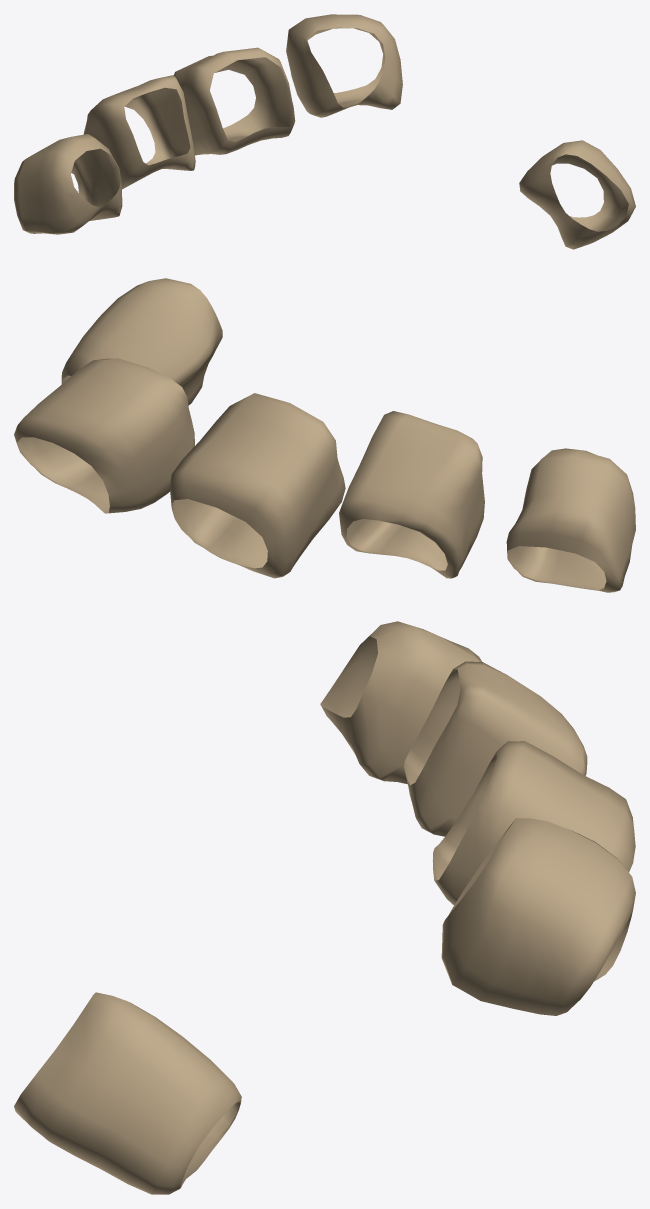
3 renders of one model, top to bottom at view 1: azimuth 30°, elevation 25°; view 2: azimuth 150°, elevation 25°; view 3: azimuth 270°, elevation 25°, orthographic. The views are drawn at different scales.
Visible parts, largest first — view 1: 左侧掌指关节囊; view 2: 左侧掌指关节囊; view 3: 左侧掌指关节囊.
Part boxes in pixels (bbox=[...]): 左侧掌指关节囊: bbox=[14, 14, 635, 249]; 左侧掌指关节囊: bbox=[14, 278, 635, 592]; 左侧掌指关节囊: bbox=[14, 621, 635, 1194].
Size of the model in its own units: 0.1362 by 0.0422 by 0.0905.
